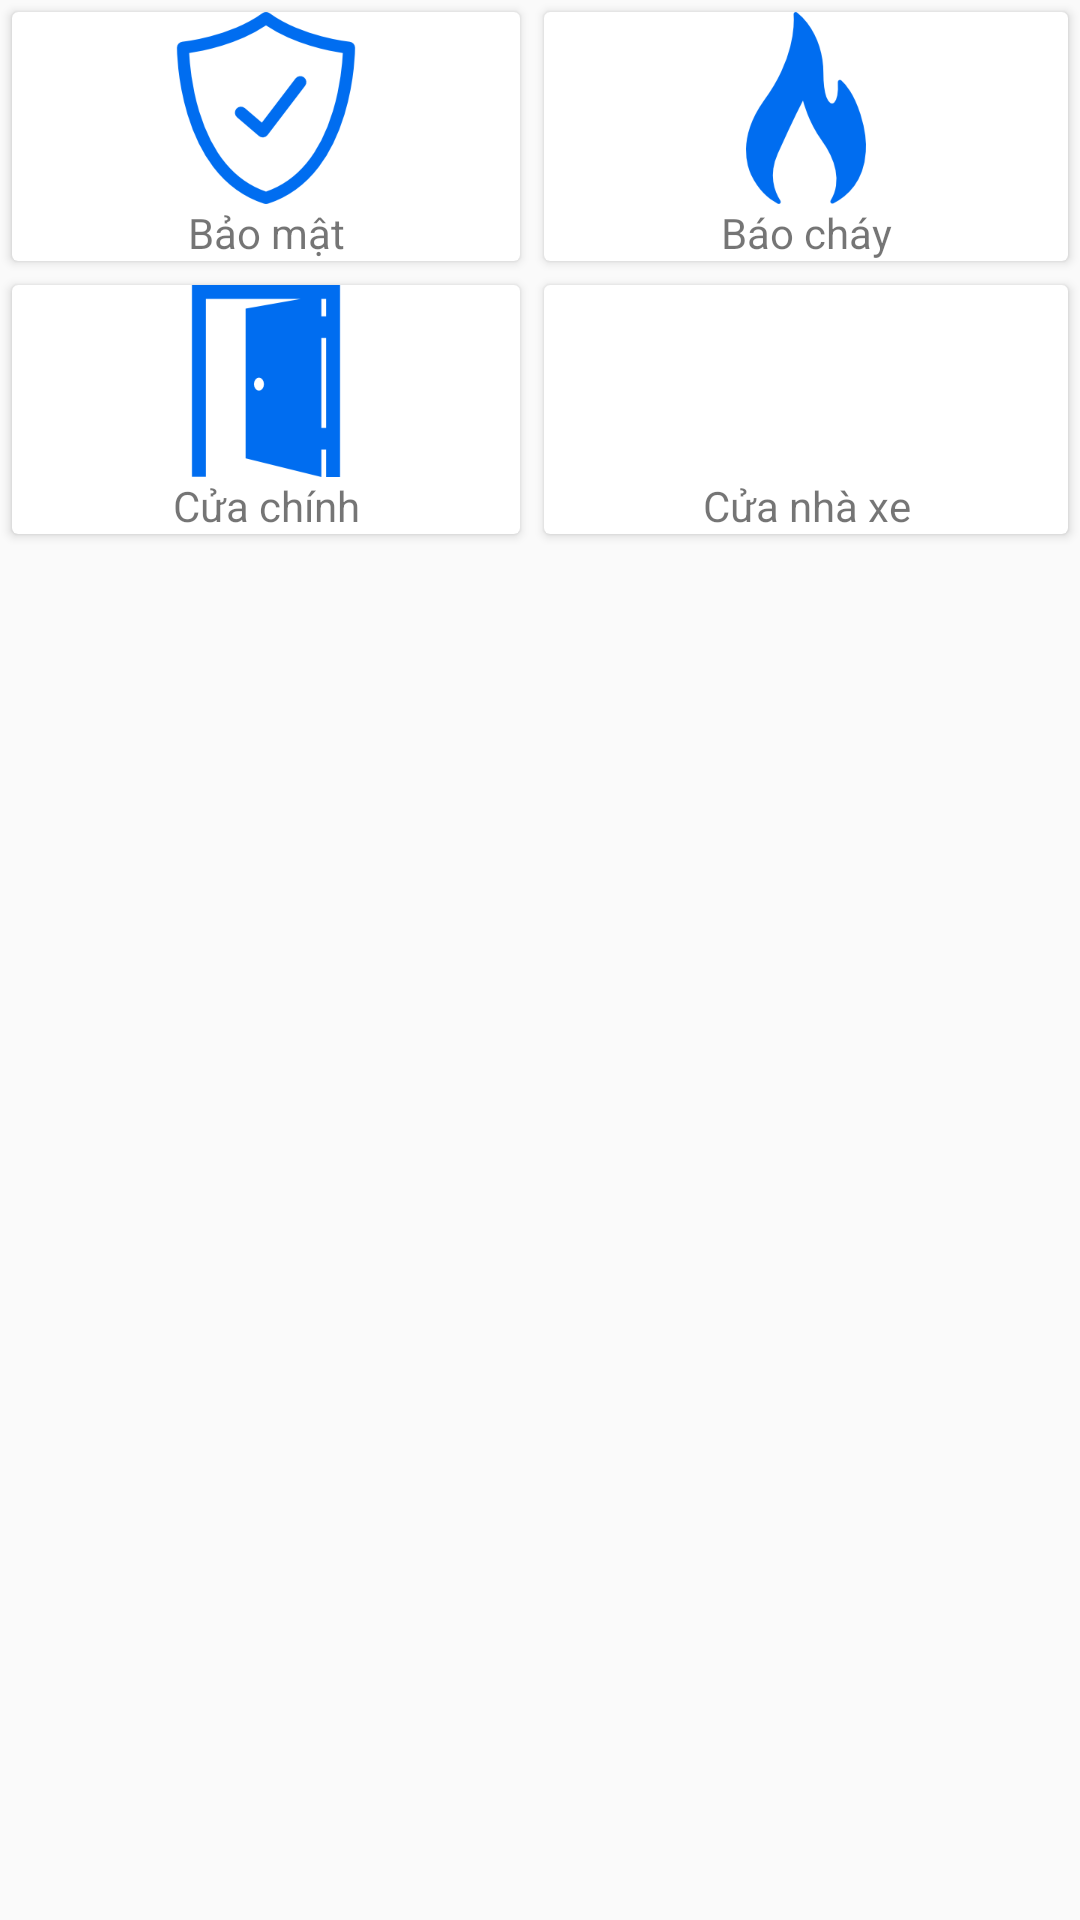

Where icons sit on this 1080 x 1920 app screen, as (x1, y1, x2, y2):
fire: (746, 12, 866, 204)
open door: (191, 285, 341, 477)
